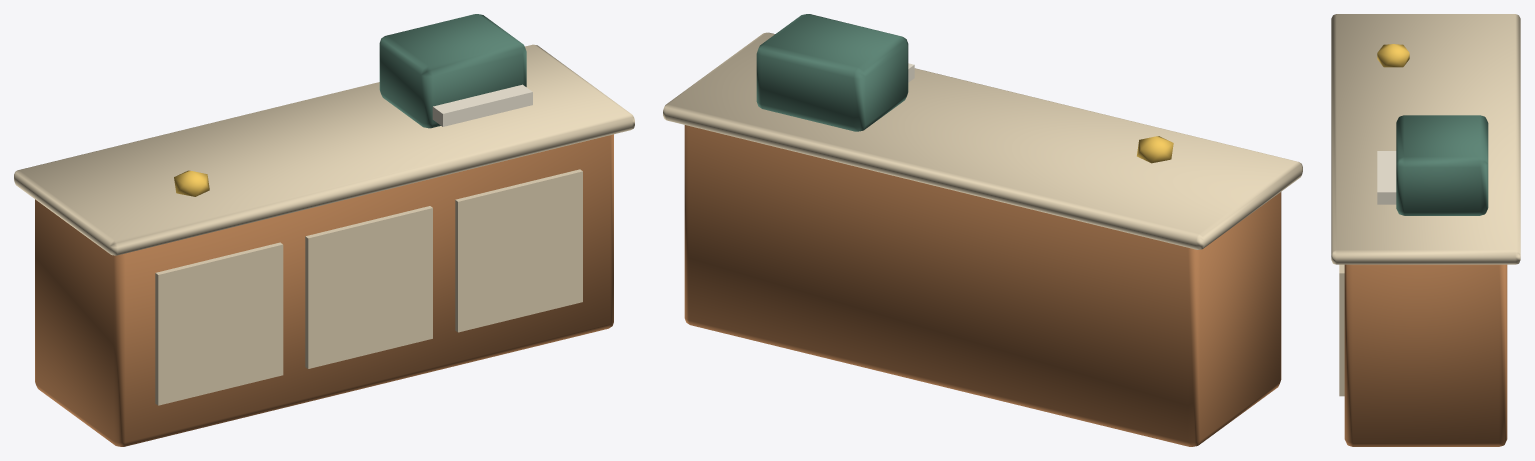
Rendered from v_furn_counter.glb.
3 views of the same model, side by side, from view 1: azimuth 30°, elevation 25°; view 2: azimuth 150°, elevation 25°; view 3: azimuth 270°, elevation 25° (orthographic). The views are drawn at different scales.
Parts seen in each view (by area): view 1: Counter; view 2: Counter; view 3: Counter.
Part boxes in pixels (x1,y1,x2,y2): Counter: (14, 14, 634, 446); Counter: (663, 14, 1302, 446); Counter: (1331, 14, 1520, 446).
Bounding box in the file's own units: 2.1 × 1.07 × 0.7.
